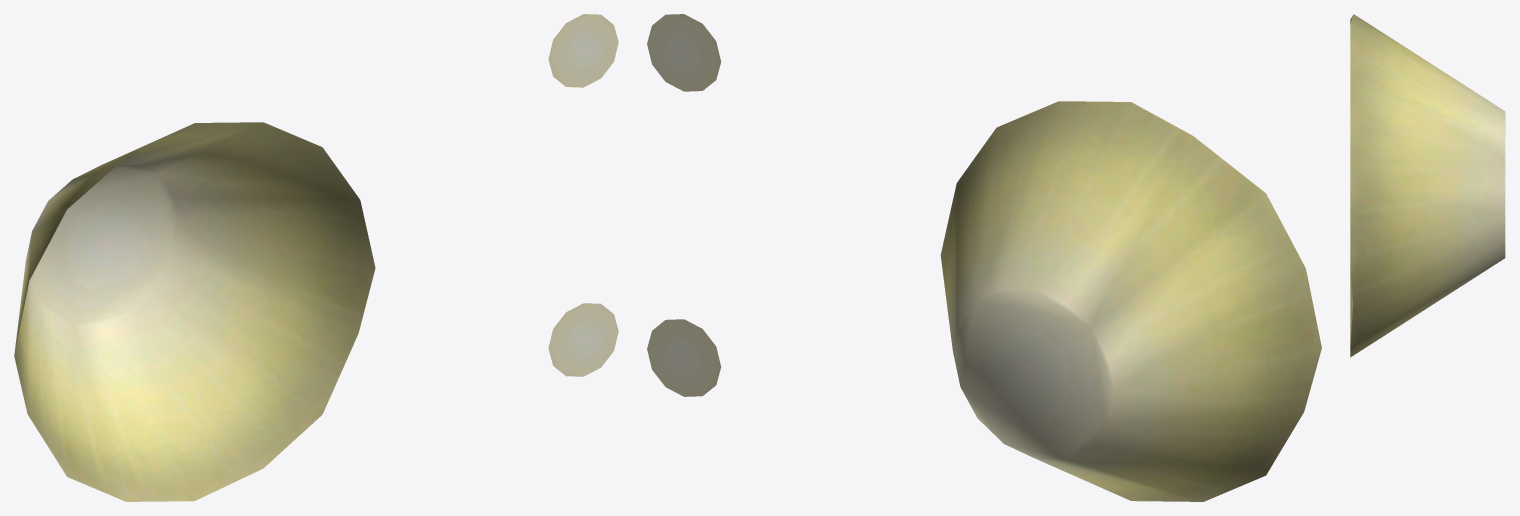
File: star_destroyer_space_engine3_on_l1.fbx
The picture shows the model from 3 angles, left to right: view 1: azimuth 30°, elevation 25°; view 2: azimuth 150°, elevation 25°; view 3: azimuth 270°, elevation 25°; orthographic projection. The views are drawn at different scales.
Visible parts, largest first — view 1: mesh_node; view 2: mesh_node; view 3: mesh_node.
Boxes of the visible parts, box(x1,y1,x2,y2) form: mesh_node: box(14, 14, 618, 501); mesh_node: box(647, 14, 1321, 501); mesh_node: box(1350, 14, 1505, 357).
Size of the model in its own units: 264 by 153 by 68.08.
